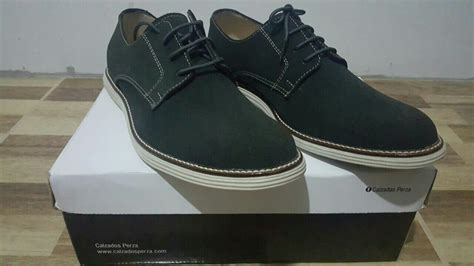gamuza: (106, 7, 439, 172)
